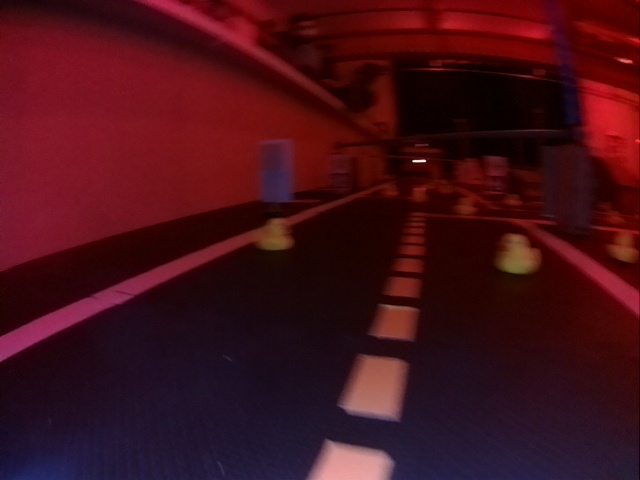Duckie: (496, 235, 541, 274), (257, 220, 292, 248), (610, 235, 634, 261)
